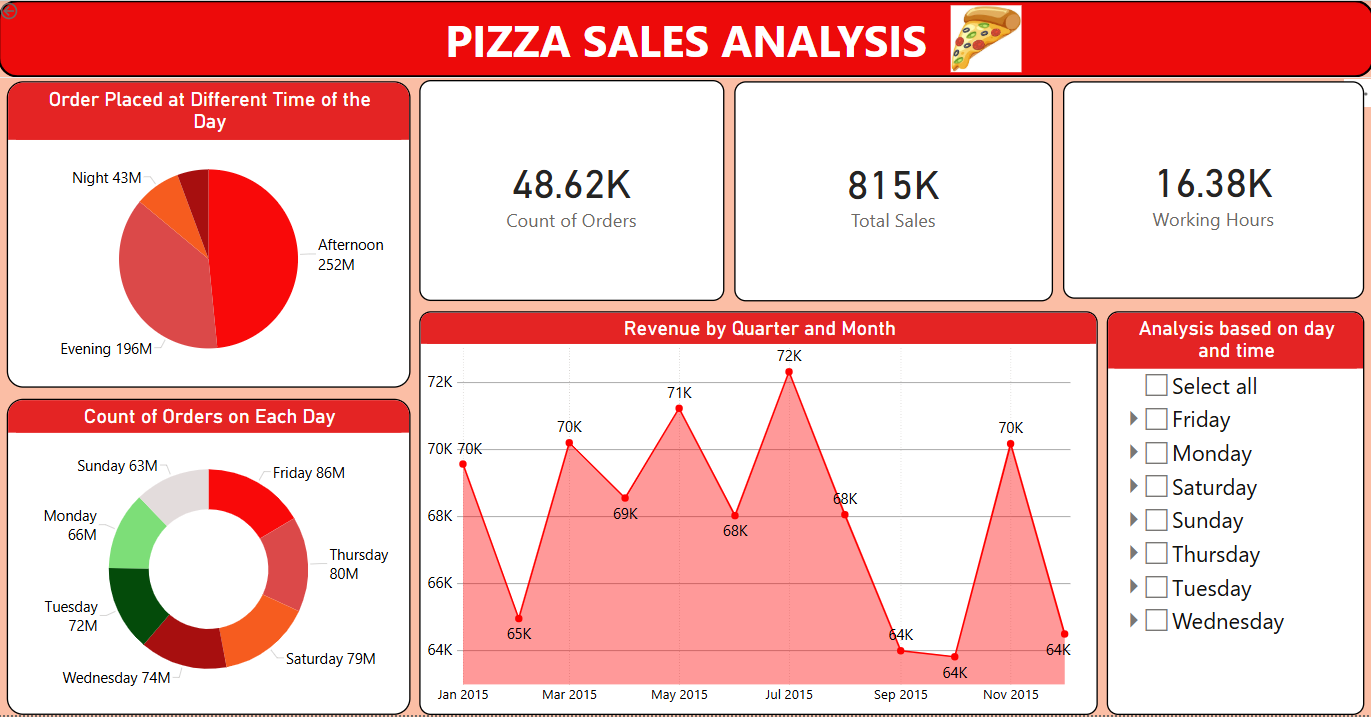

This screenshot's page, from the dashboard's own definition file:
{"tool":"powerbi","page":{"name":"Page 1","canvas":[2500,1300],"ordinal":0},"visuals":[{"type":"shape","box":[0,0,2500.5,140.8],"z":0},{"type":"pieChart","title":"Order Placed at Different Time of the Day","fields":{"Category":["Orders.Quarter of Day"],"Y":["Sum(Orders.order_id)"]},"box":[15.9,147.6,733.6,556.4],"z":1000},{"type":"donutChart","title":"Count of Orders on Each Day","fields":{"Y":["Sum(Orders.order_id)"],"Category":["Orders.Day Name"]},"box":[15.9,724.5,733.6,574.6],"z":2000},{"type":"areaChart","title":"Revenue by Quarter and Month","fields":{"Category":["Orders.date.Variation.Date Hierarchy.Year","Orders.date.Variation.Date Hierarchy.Quarter","Orders.date.Variation.Date Hierarchy.Month","Orders.date.Variation.Date Hierarchy.Day"],"Y":["Sum(Orders.Order Details.Revenue)"]},"box":[765.4,565.5,1233.2,733.6],"z":3000},{"type":"card","fields":{"Values":["CountNonNull(Orders.order_id)"]},"box":[765.4,145.3,554.1,402],"z":4000},{"type":"card","fields":{"Values":["Sum(Orders.Order Details.Revenue)"]},"box":[1337.7,147.6,579.1,399.7],"z":5000},{"type":"card","fields":{"Values":["Count(Orders.time)"]},"box":[1935,147.6,547.3,395.2],"z":6000},{"type":"slicer","title":"Analysis based on day and time ","fields":{"Values":["Orders.Day Name","Orders.Quarter of Day"]},"box":[2014.4,565.5,467.8,733.6],"z":7000},{"type":"actionButton","box":[0,0,100,40],"z":8000},{"type":"image","box":[1726,0,138.5,140.8],"z":9000}]}

Visuals, with their boxes in screenshot pixels (x1, y1, x2, y2), scaled from the page's 2500x1300 canvas onto the 1371x717 screenshot:
shape: box(0, 0, 1370, 78)
"Order Placed at Different Time of the Day" pieChart: box(9, 81, 411, 388)
"Count of Orders on Each Day" donutChart: box(9, 400, 411, 716)
"Revenue by Quarter and Month" areaChart: box(420, 312, 1096, 716)
card - CountNonNull(Orders.order_id): box(420, 80, 724, 302)
card - Sum(Orders.Order Details.Revenue): box(734, 81, 1051, 302)
card - Count(Orders.time): box(1061, 81, 1361, 299)
"Analysis based on day and time " slicer: box(1105, 312, 1361, 716)
actionButton: box(0, 0, 55, 22)
image: box(947, 0, 1022, 78)
